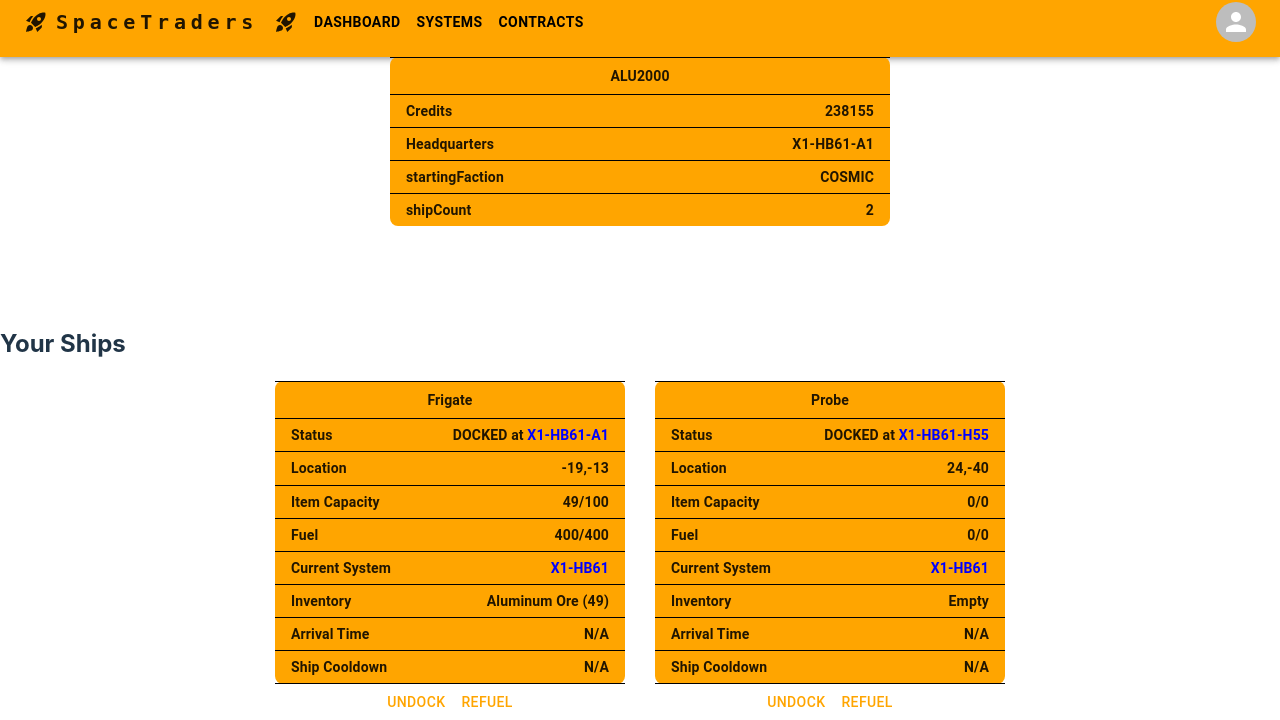
Test: Should display error when trying to refuel on a full tank
(page scrolled)
Expected: the text "X1-HB61-A1" is shown, 527,428 -> 609,444
Expected: the text "400/400" is shown, 554,526 -> 609,542
Click the button with test id "test-refuel-ALU2000-1": [487, 702] box 453,684 -> 521,719
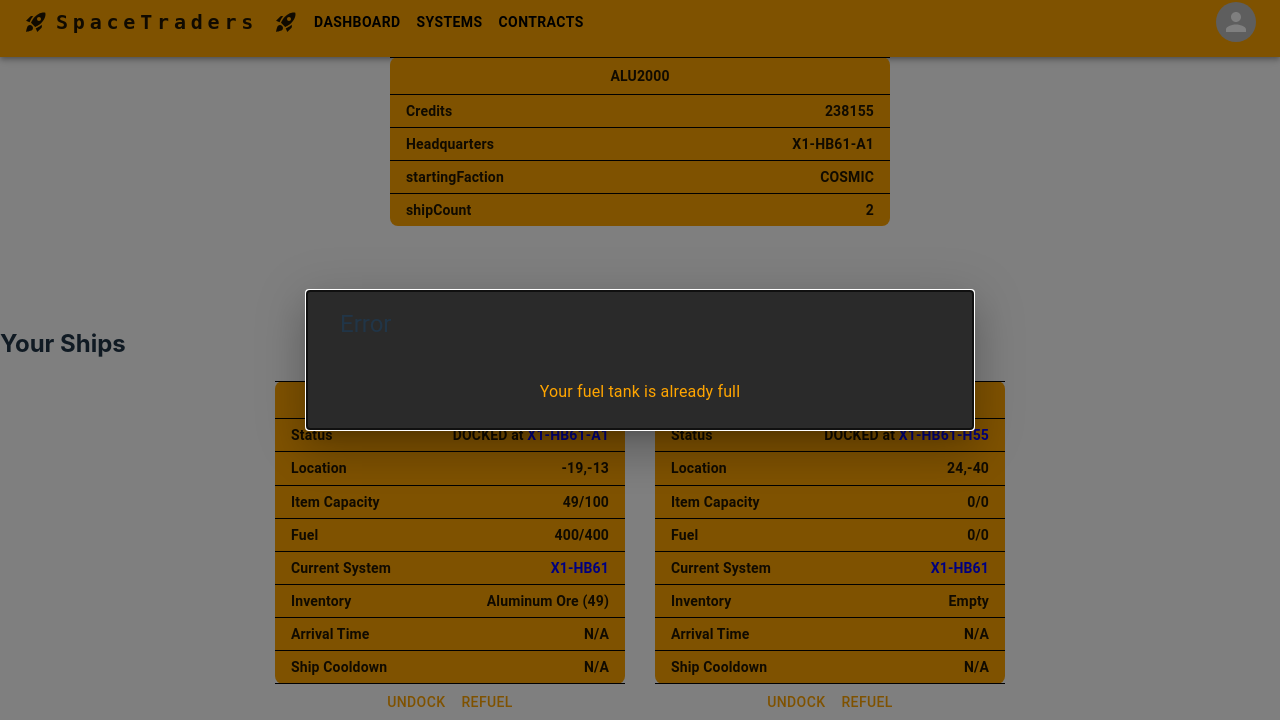
Now the text "Your fuel tank is already full" is shown, box 540,382 -> 740,401
